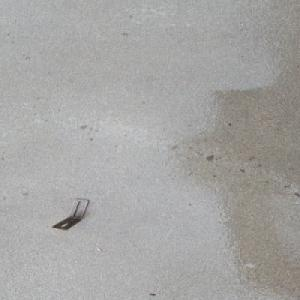MetalPart: (50, 197, 90, 230)
